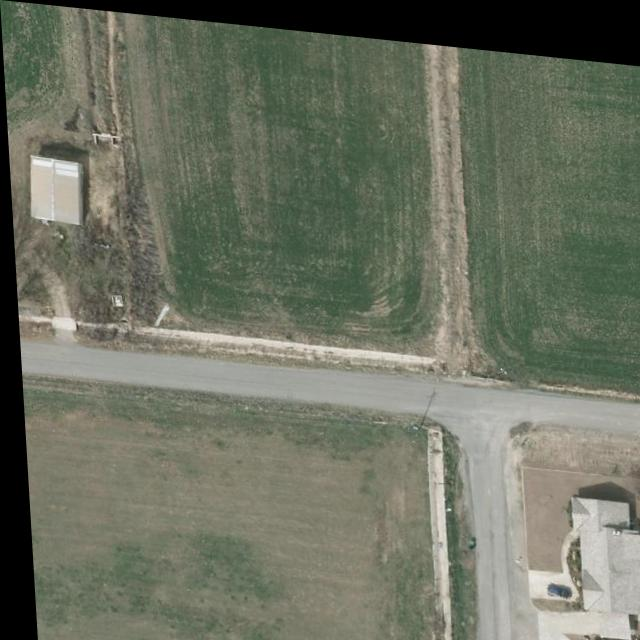vehicle: (539, 572, 567, 590)
